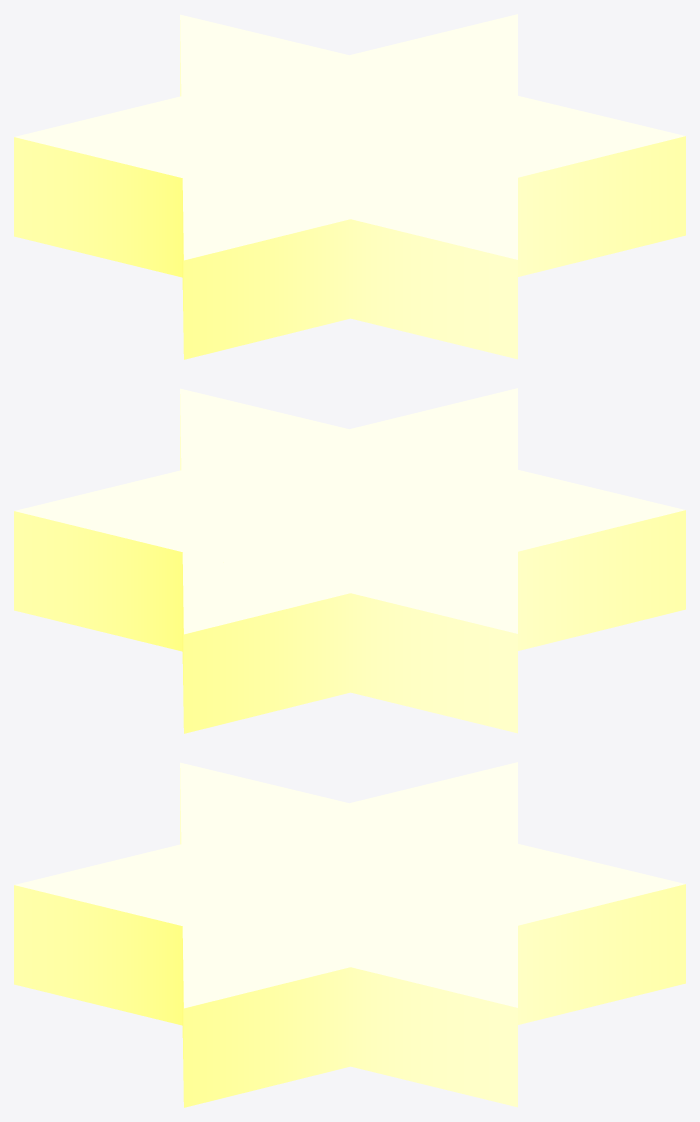
Rendered from star.a1754e30.gltf.
3 views of the same model, one above another, from view 1: azimuth 30°, elevation 25°; view 2: azimuth 150°, elevation 25°; view 3: azimuth 270°, elevation 25° (orthographic).
Parts seen in each view (by area): view 1: Cylinder (×2); view 2: Cylinder (×2); view 3: Cylinder (×2).
Part boxes in pixels (bbox=[...]): Cylinder (×2): bbox=[14, 14, 685, 359]; Cylinder (×2): bbox=[14, 388, 685, 733]; Cylinder (×2): bbox=[14, 762, 685, 1107].
Bounding box in the file's own units: 1.74 × 0.3265 × 2.
